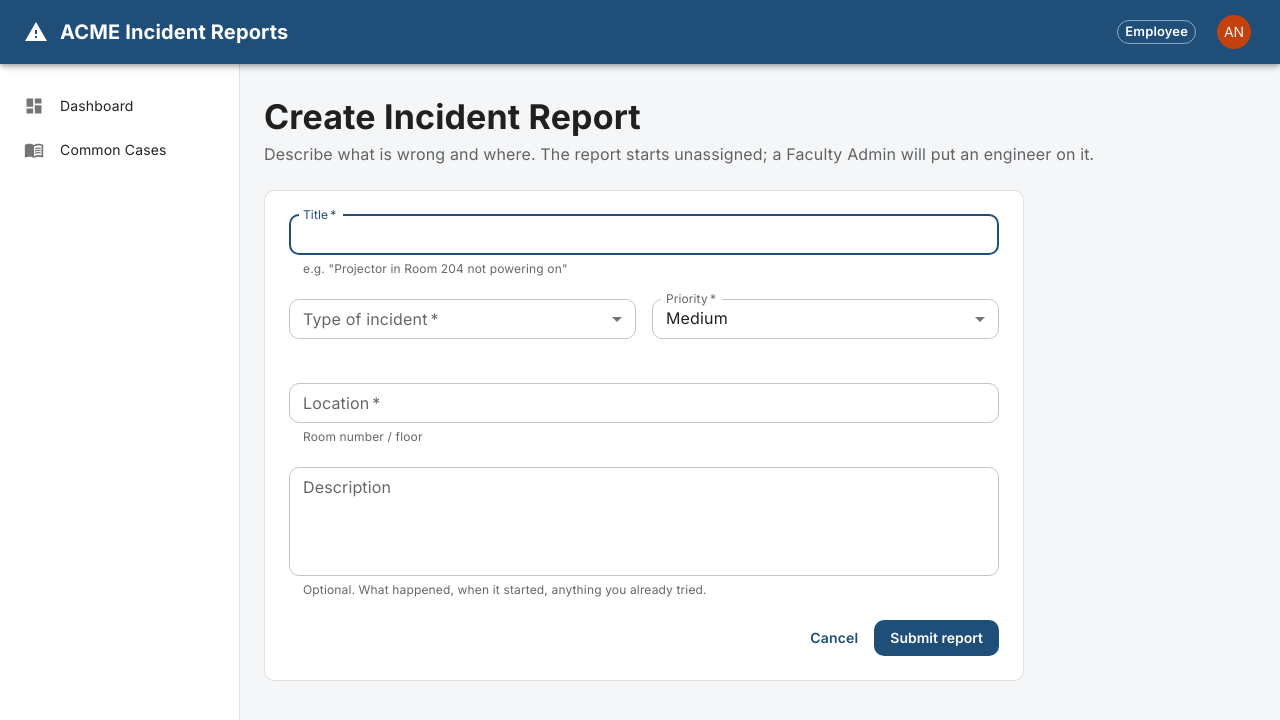
Test: CreateReportPage › lists every missing field on submit and files nothing
The width and height of the screenshot is (1280, 720).
expect the heading "Create Incident Report" is shown: met, box left=264, top=96, right=641, bottom=137
Click the button "Submit report". click: (937, 638)
box: left=874, top=620, right=999, bottom=656
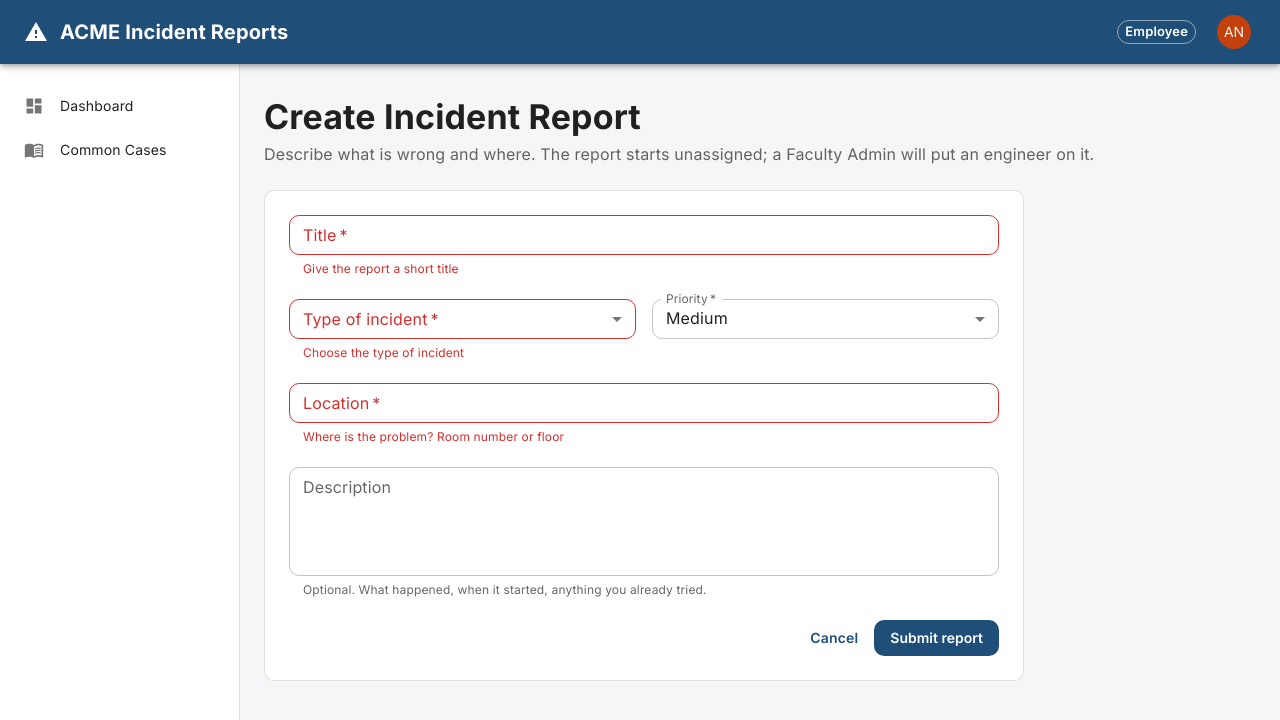
expect the text "Give the report a short title" is shown: met, box left=303, top=261, right=459, bottom=276
expect the text "Choose the type of incident" is shown: met, box left=303, top=345, right=464, bottom=360
expect the text "Where is the problem? Room number or floor" is shown: met, box left=303, top=429, right=564, bottom=444
